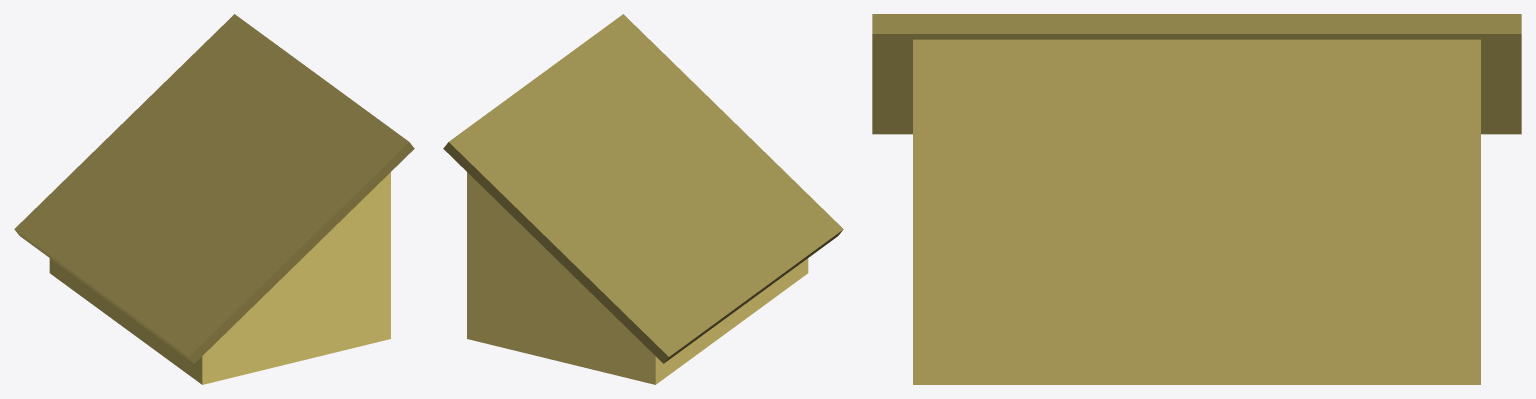
Rendered from result.glb.
3 views of the same model, side by side, from view 1: azimuth 30°, elevation 25°; view 2: azimuth 150°, elevation 25°; view 3: azimuth 270°, elevation 25° (orthographic). The views are drawn at different scales.
Visible parts, largest first — view 1: 793e2116-e06e-460c-91f2-3272678c6e3a__undefined, 51c6ba50-1781-4f38-abf3-2448cfaf35d4__undefined; view 2: 793e2116-e06e-460c-91f2-3272678c6e3a__undefined, 51c6ba50-1781-4f38-abf3-2448cfaf35d4__undefined; view 3: 51c6ba50-1781-4f38-abf3-2448cfaf35d4__undefined, 793e2116-e06e-460c-91f2-3272678c6e3a__undefined.
Boxes of the visible parts, x1,y1,x2,y2 form: 793e2116-e06e-460c-91f2-3272678c6e3a__undefined: (14,14,414,363); 51c6ba50-1781-4f38-abf3-2448cfaf35d4__undefined: (49,172,390,384); 793e2116-e06e-460c-91f2-3272678c6e3a__undefined: (443,14,843,363); 51c6ba50-1781-4f38-abf3-2448cfaf35d4__undefined: (467,172,808,384); 51c6ba50-1781-4f38-abf3-2448cfaf35d4__undefined: (913,39,1480,384); 793e2116-e06e-460c-91f2-3272678c6e3a__undefined: (872,14,1521,134).
Bounding box in the file's own units: 597 × 513 × 800.
